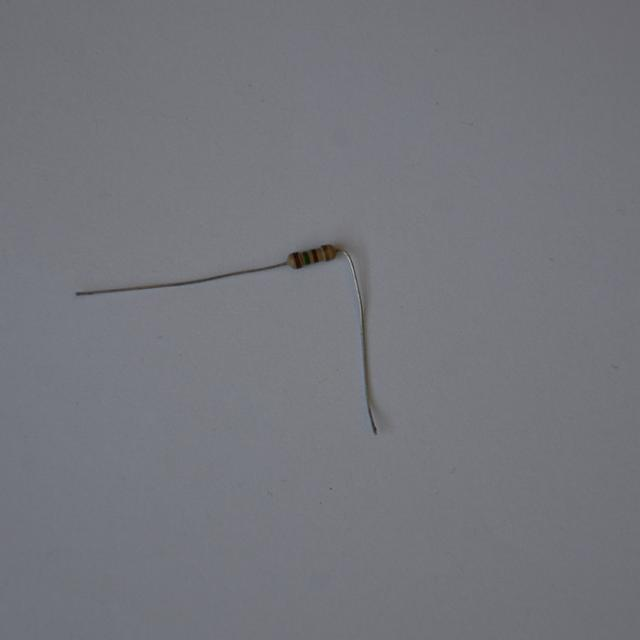brown: (311, 250, 317, 261), (295, 253, 300, 266)
gold: (323, 245, 329, 260)
green: (304, 251, 310, 264)
resistor: (279, 236, 344, 279)
